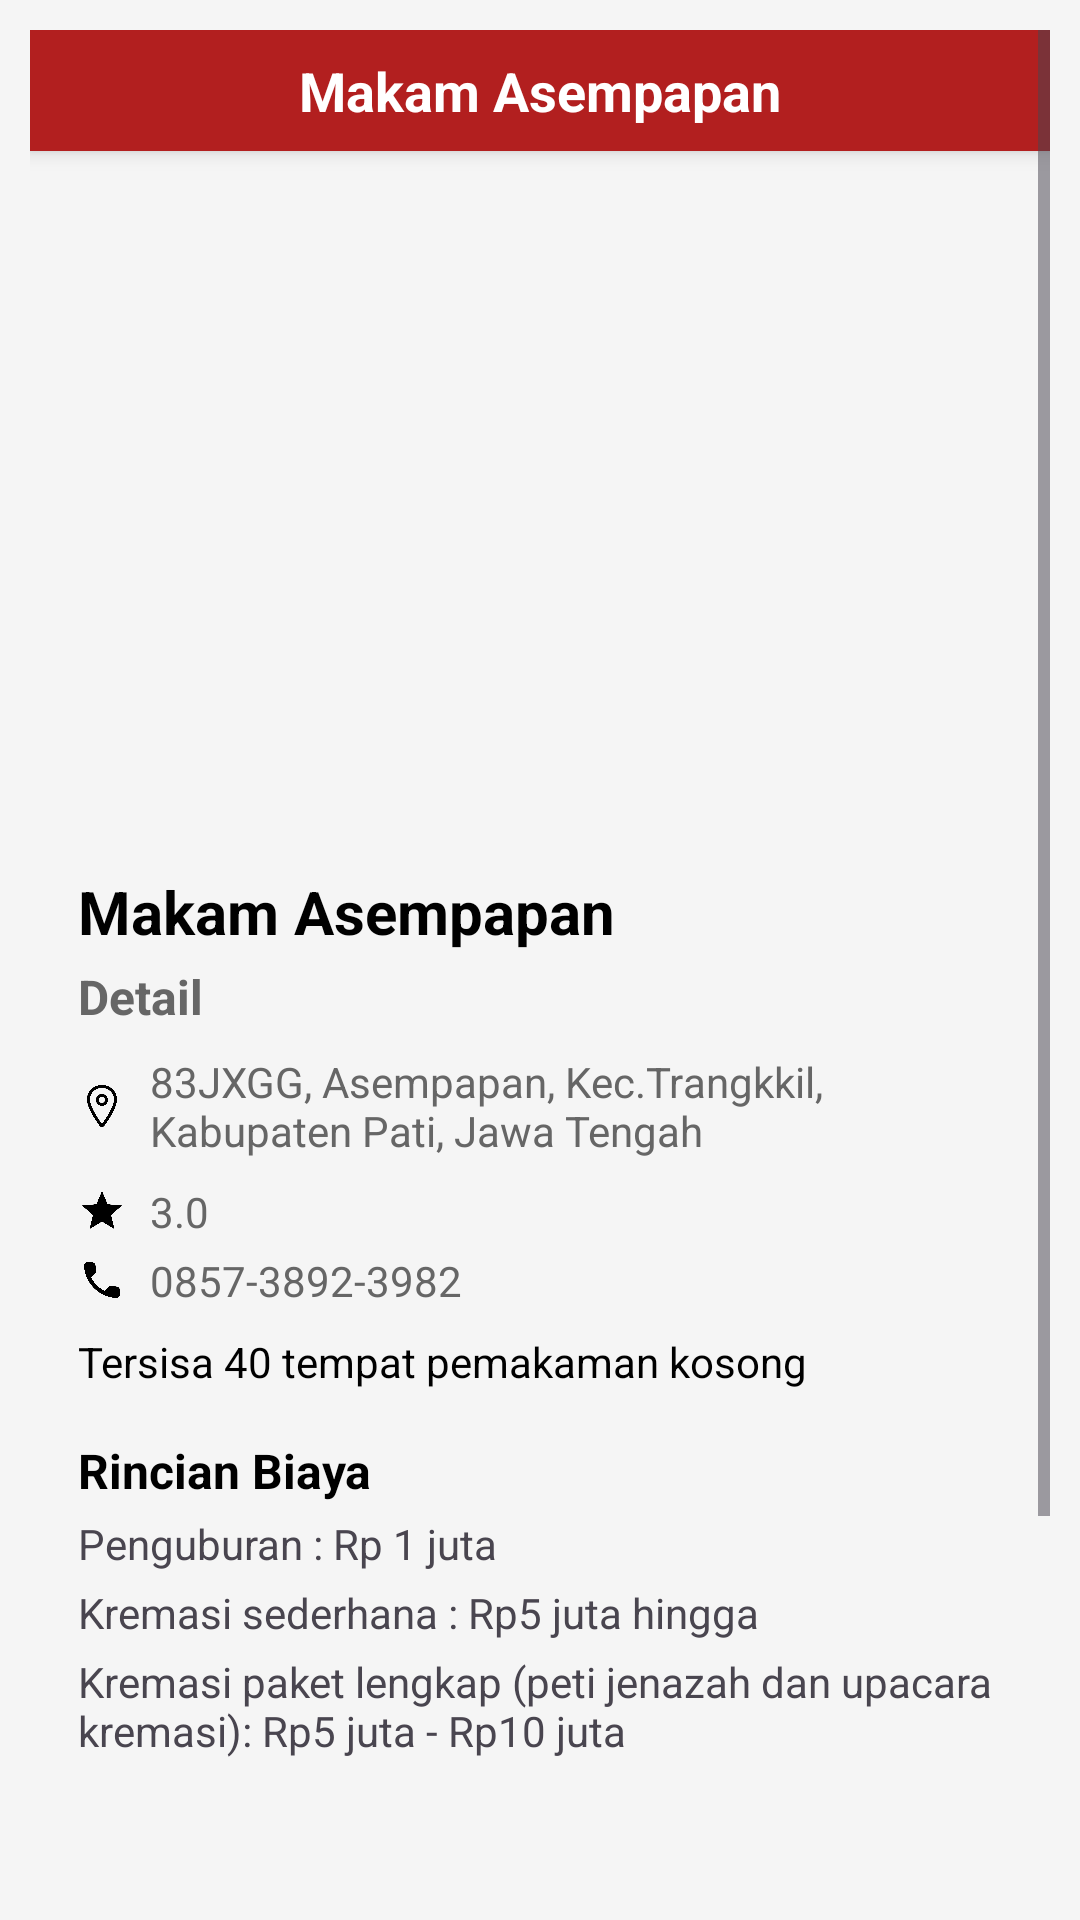

Where to tap for icons on this 1080x1920 app screen, as (x=x, y=y):
iclocation: (x=102, y=1106)
icphone: (x=102, y=1280)
icstar: (x=102, y=1210)
